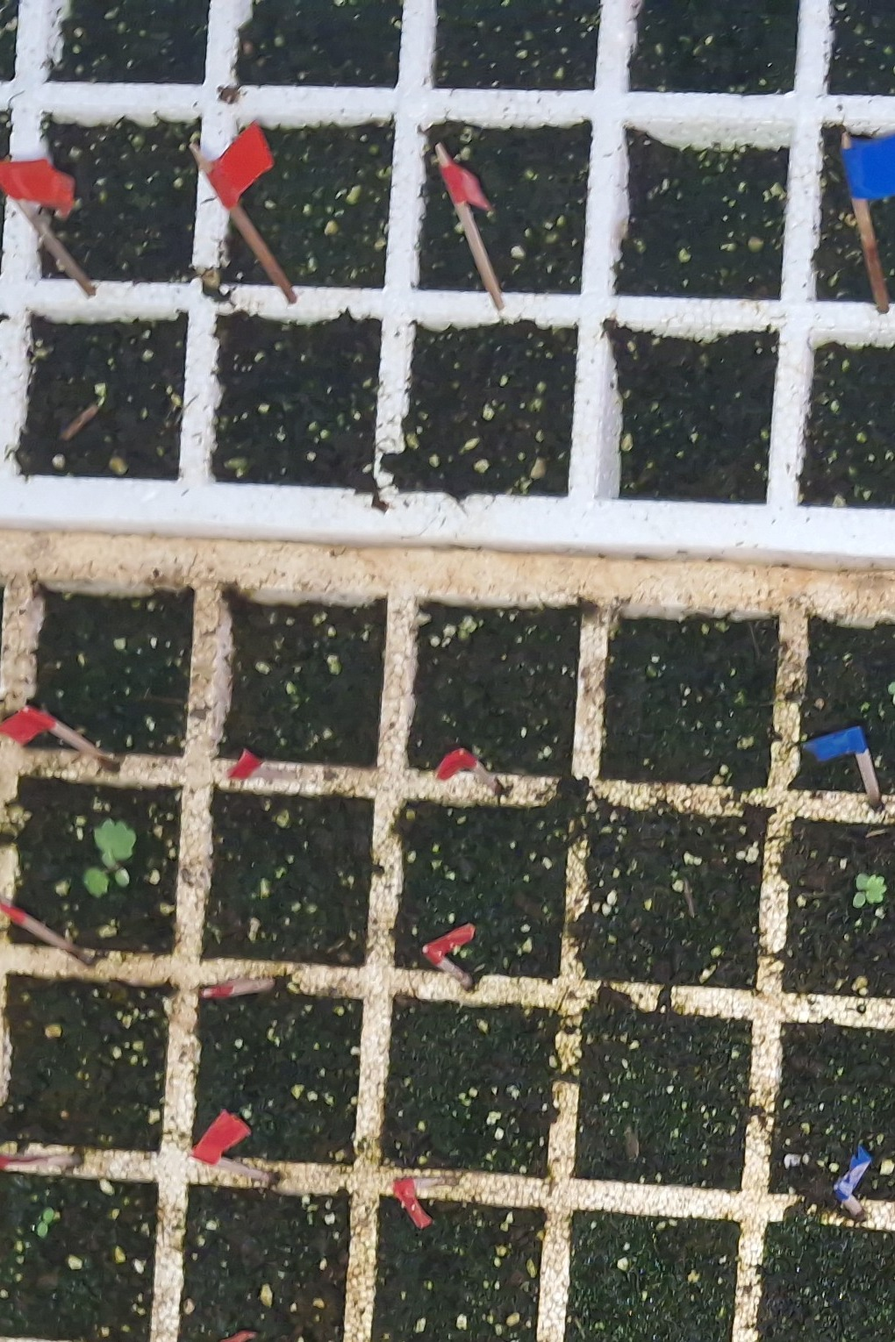Folha: (95, 819, 136, 861), (84, 867, 109, 897), (866, 875, 886, 903), (102, 847, 115, 869), (115, 869, 129, 887), (857, 874, 869, 890), (853, 892, 865, 908), (43, 1208, 54, 1223), (37, 1222, 48, 1237)
Germinacao: (85, 817, 137, 897), (853, 873, 887, 907), (36, 1207, 54, 1237)
